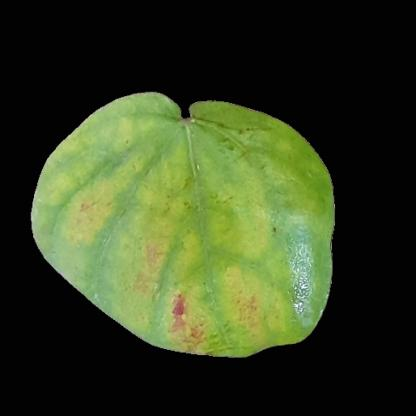curl_stage1: (145, 149, 285, 345), (71, 122, 143, 264)
